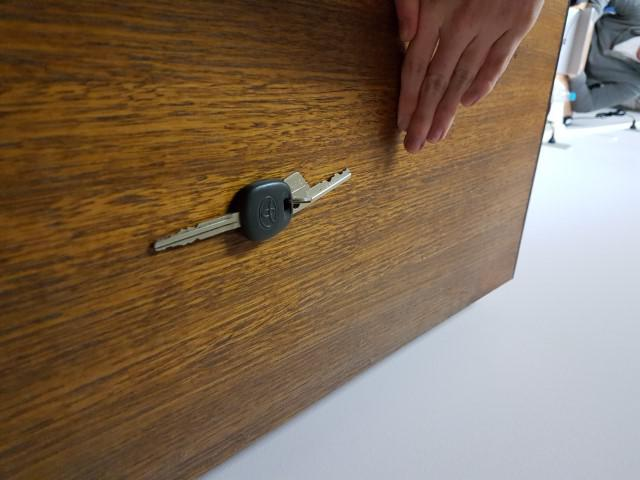key: (153, 179, 293, 257)
